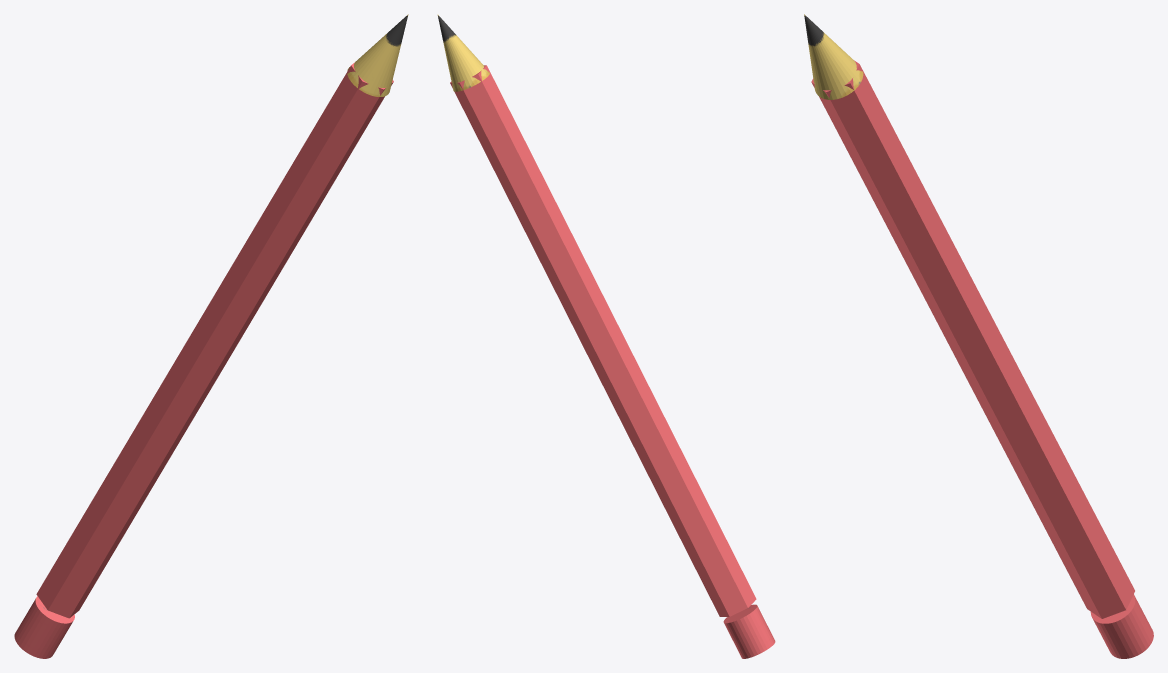
File: pencil.glb
3 renders of one model, left to right at view 1: azimuth 30°, elevation 25°; view 2: azimuth 210°, elevation 25°; view 3: azimuth 270°, elevation 25°, orthographic. The views are drawn at different scales.
Visible parts, largest first — view 1: mesh_id5, mesh_id4; view 2: mesh_id5, mesh_id4; view 3: mesh_id5, mesh_id4.
Boxes of the visible parts, left/top/right/bottom form: mesh_id5: left=14, top=62, right=393, bottom=658; mesh_id4: left=347, top=14, right=408, bottom=96; mesh_id5: left=450, top=65, right=775, bottom=658; mesh_id4: left=437, top=14, right=489, bottom=91; mesh_id5: left=811, top=60, right=1153, bottom=658; mesh_id4: left=804, top=14, right=863, bottom=99.
Size of the model in its own units: 0.1676 by 0.4596 by 0.1926.
2 materials, 2 textured.
